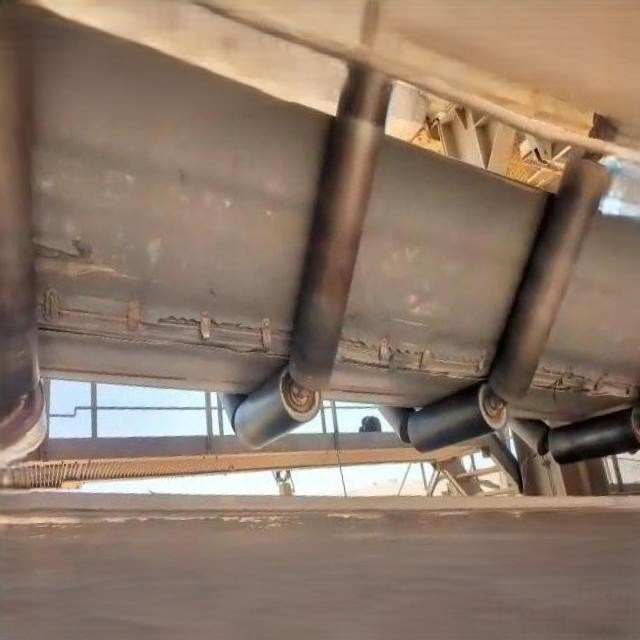Tear: (30, 286, 288, 385), (332, 324, 497, 386), (530, 357, 640, 409)
Wear: (26, 228, 138, 285)
